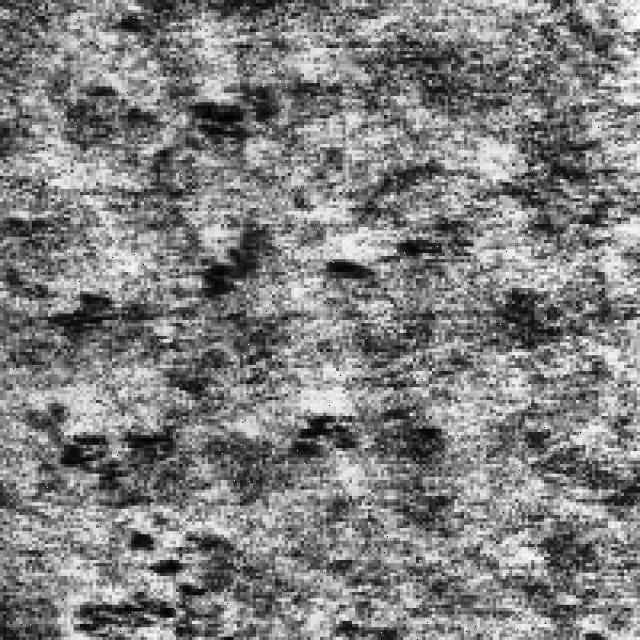Crazing: (51, 230, 262, 630), (60, 84, 262, 166)
